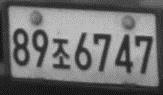4: (114, 32, 134, 73)
6: (74, 31, 92, 70)
7: (134, 34, 153, 75), (92, 32, 111, 71)
8: (12, 27, 29, 66)
9: (31, 28, 49, 67)
조: (51, 38, 71, 69)
